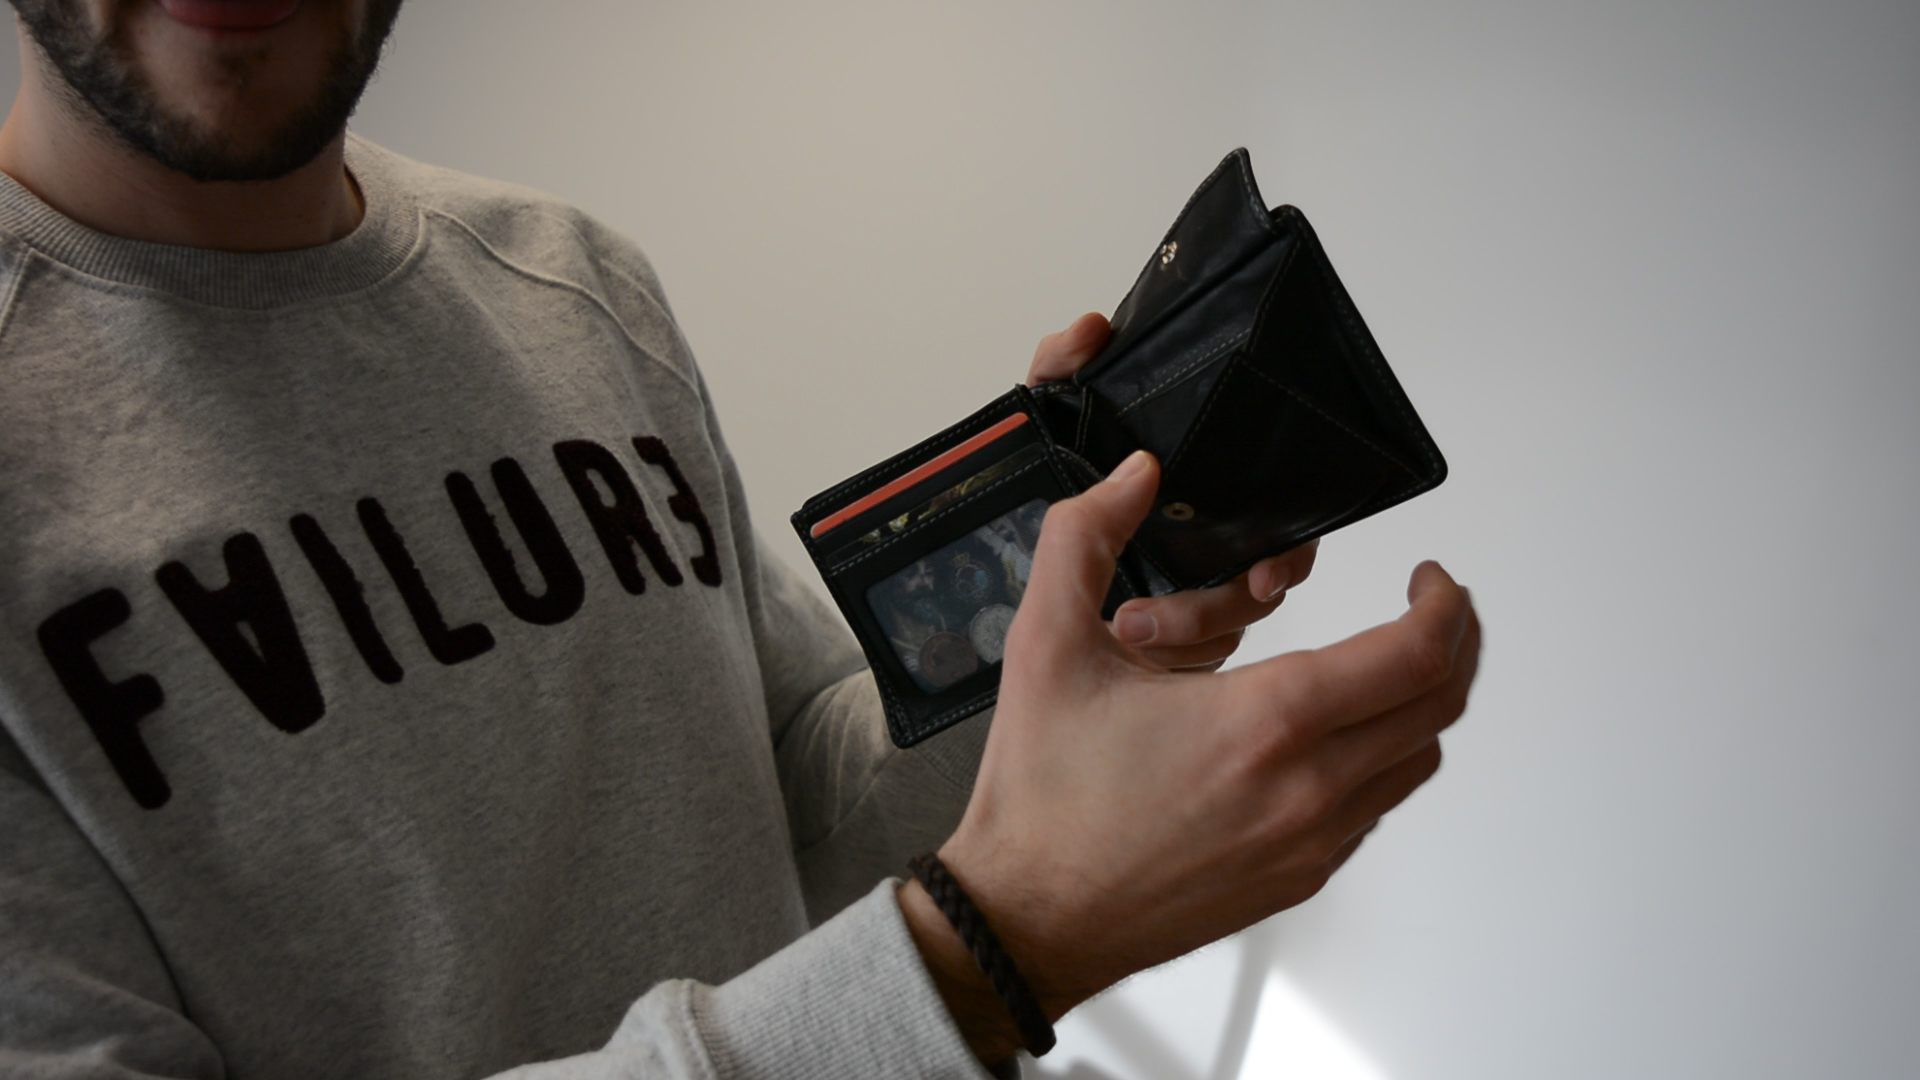monedero: (787, 144, 1455, 752)
